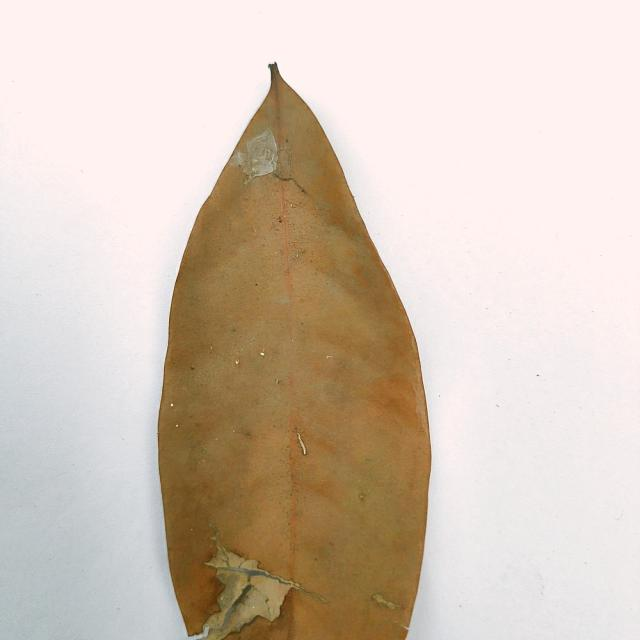Dry_Leaf-Lychee: (156, 63, 432, 639)
